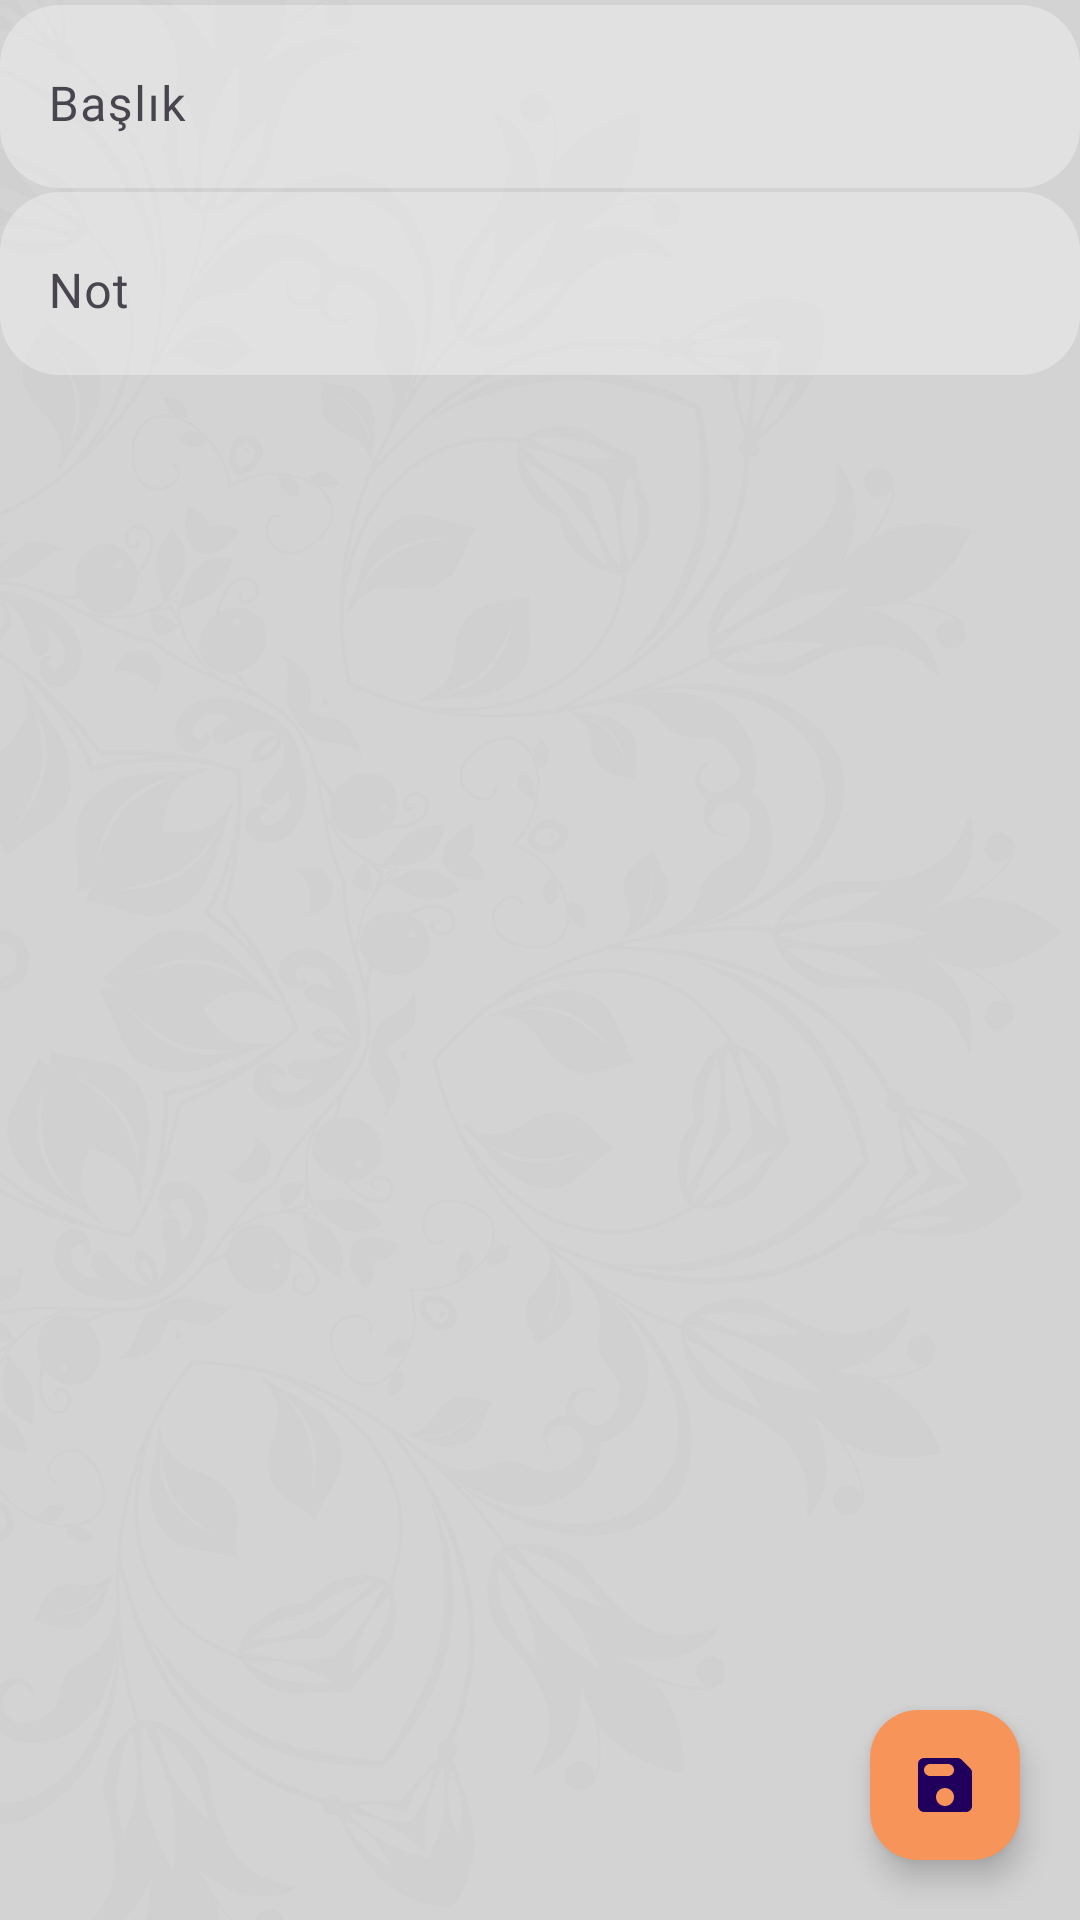

Where icons sit on this 1080*1920 app screen, as (x1, y1, x2, y2):
save: (870, 1710, 1020, 1860)
